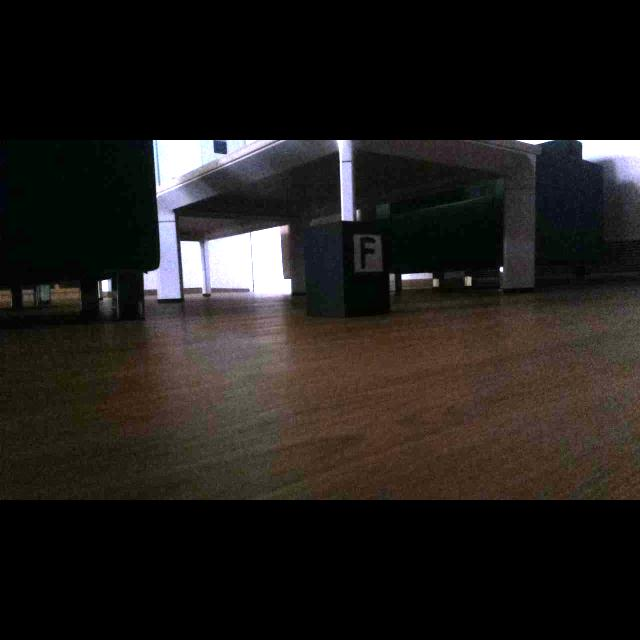F: (360, 237, 376, 269)
